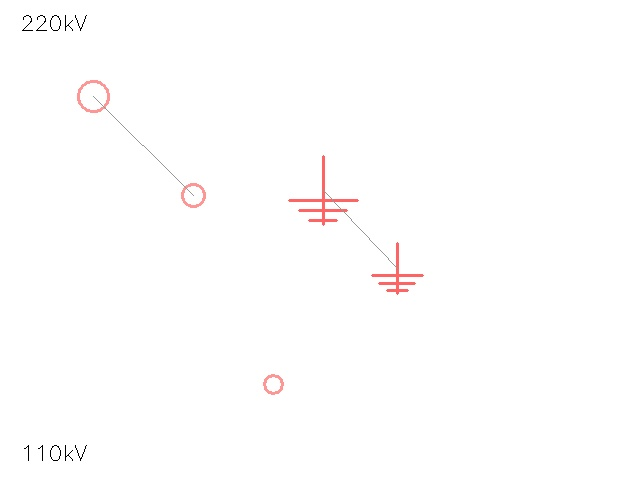fuse: (255, 366, 291, 402)
ground: (289, 156, 357, 224), (372, 243, 422, 293)
load_break_switch: (62, 65, 124, 127), (171, 173, 215, 217)
